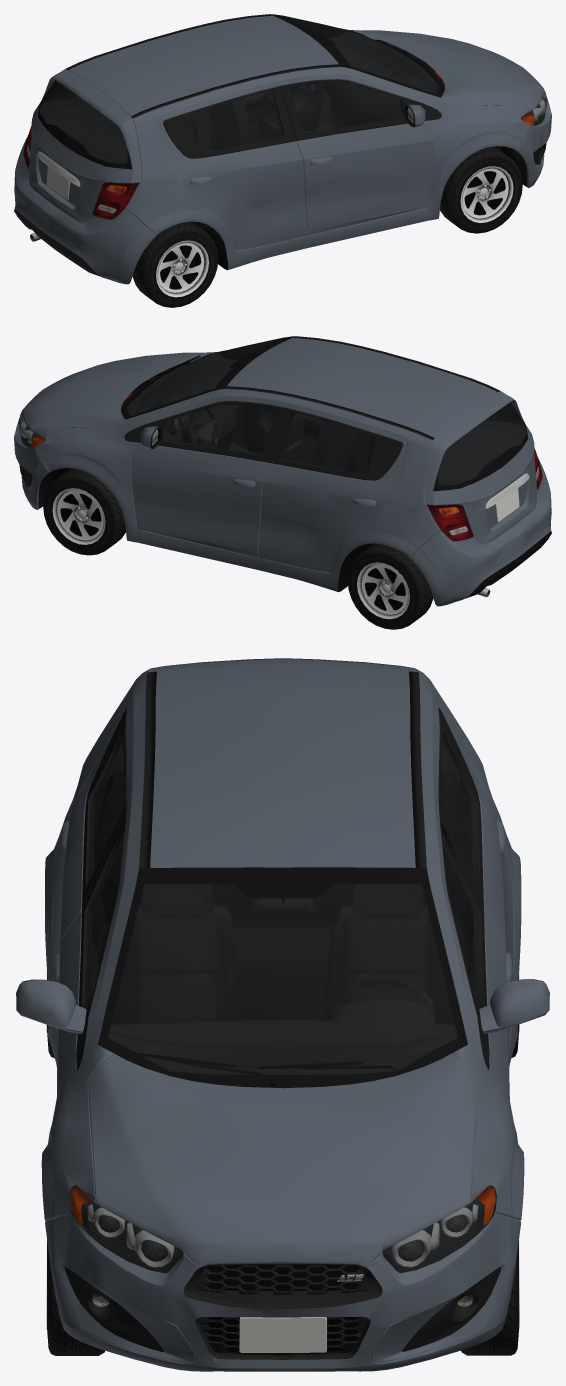
File: Hatchback.obj
3 renders of one model, top to bottom at view 1: azimuth 30°, elevation 25°; view 2: azimuth 150°, elevation 25°; view 3: azimuth 270°, elevation 25°, orthographic. The views are drawn at different scales.
Visible parts, largest first — view 1: Ace11_Body_Ace11_Bodymat_0, Ace11_Glass_Body_UCB_Lights_and_Glass_Transperent_0, Ace11_Interior_UCB_Interiors_2_0, Ace11_Bottom_UCB_BOTTOM_LT_0, Ace11_WheelStock_FL_RB1c_Tire_1k_0, Ace11_Brakelights_UCB_Lights_and_Glass_0, Ace11_Numberplates_Front_Numberplates_Misk_U_0; view 2: Ace11_Body_Ace11_Bodymat_0, Ace11_Glass_Body_UCB_Lights_and_Glass_Transperent_0, Ace11_Interior_UCB_Interiors_2_0, Ace11_Bottom_UCB_BOTTOM_LT_0, Ace11_WheelStock_FL_RB1c_Tire_1k_0, Ace11_Brakelights_UCB_Lights_and_Glass_0, Ace11_Numberplates_Front_Numberplates_Misk_U_0; view 3: Ace11_Body_Ace11_Bodymat_0, Ace11_Glass_Body_UCB_Lights_and_Glass_Transperent_0, Ace11_Interior_UCB_Interiors_2_0, Ace11_Bottom_UCB_BOTTOM_LT_0, Ace11_WheelStock_FL_RB1c_Tire_1k_0, Ace11_Numberplates_Front_Numberplates_Misk_U_0, Ace11_Brakelights_UCB_Lights_and_Glass_0.
Part boxes in pixels (left/top/right/bottom): Ace11_Body_Ace11_Bodymat_0: left=14, top=15, right=551, bottom=284; Ace11_Glass_Body_UCB_Lights_and_Glass_Transperent_0: left=39, top=15, right=547, bottom=163; Ace11_Interior_UCB_Interiors_2_0: left=39, top=16, right=438, bottom=163; Ace11_Bottom_UCB_BOTTOM_LT_0: left=14, top=14, right=546, bottom=276; Ace11_WheelStock_FL_RB1c_Tire_1k_0: left=132, top=146, right=522, bottom=307; Ace11_Brakelights_UCB_Lights_and_Glass_0: left=23, top=112, right=534, bottom=219; Ace11_Numberplates_Front_Numberplates_Misk_U_0: left=46, top=166, right=69, bottom=200; Ace11_Body_Ace11_Bodymat_0: left=14, top=337, right=551, bottom=606; Ace11_Glass_Body_UCB_Lights_and_Glass_Transperent_0: left=18, top=338, right=526, bottom=485; Ace11_Interior_UCB_Interiors_2_0: left=126, top=338, right=526, bottom=508; Ace11_Bottom_UCB_BOTTOM_LT_0: left=19, top=336, right=551, bottom=598; Ace11_WheelStock_FL_RB1c_Tire_1k_0: left=43, top=468, right=433, bottom=629; Ace11_Brakelights_UCB_Lights_and_Glass_0: left=31, top=434, right=542, bottom=541; Ace11_Numberplates_Front_Numberplates_Misk_U_0: left=496, top=488, right=519, bottom=522; Ace11_Body_Ace11_Bodymat_0: left=16, top=658, right=549, bottom=1371; Ace11_Glass_Body_UCB_Lights_and_Glass_Transperent_0: left=81, top=736, right=484, bottom=1273; Ace11_Interior_UCB_Interiors_2_0: left=86, top=739, right=479, bottom=1074; Ace11_Bottom_UCB_BOTTOM_LT_0: left=19, top=671, right=545, bottom=1371; Ace11_WheelStock_FL_RB1c_Tire_1k_0: left=46, top=965, right=519, bottom=1355; Ace11_Numberplates_Front_Numberplates_Misk_U_0: left=239, top=1317, right=326, bottom=1352; Ace11_Brakelights_UCB_Lights_and_Glass_0: left=70, top=1186, right=495, bottom=1261.
Bounding box in the file's own units: 3.84 × 1.45 × 1.83.
Materials: 7 (4 with a texture image).
